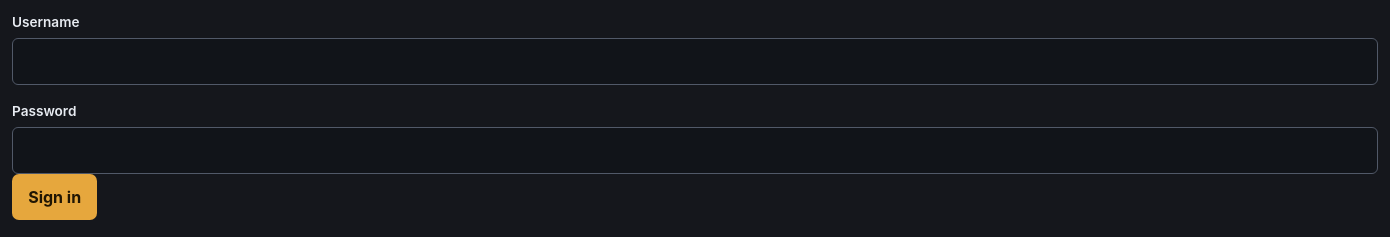
it: login form in Chromium › submits with Enter, trims the username, and preserves password whitespace
Note: screen exposes labelled controls belonging only to this form.
Type "  alice  " into the field labelled "Username" at {"x": 695, "y": 61}, box [12, 38, 1378, 85]
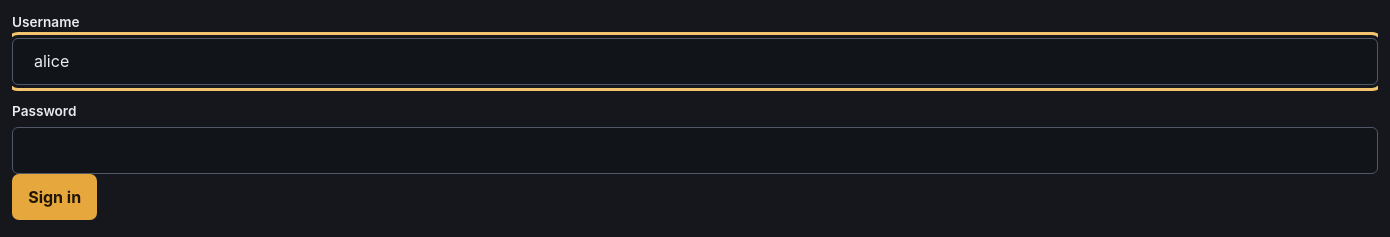
Type " exact password " into the password field labelled "Password" at {"x": 695, "y": 150}, box [12, 127, 1378, 174]
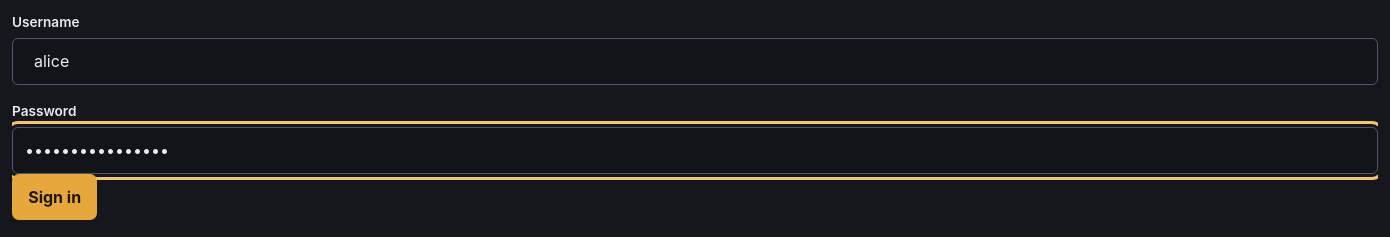
Press Enter
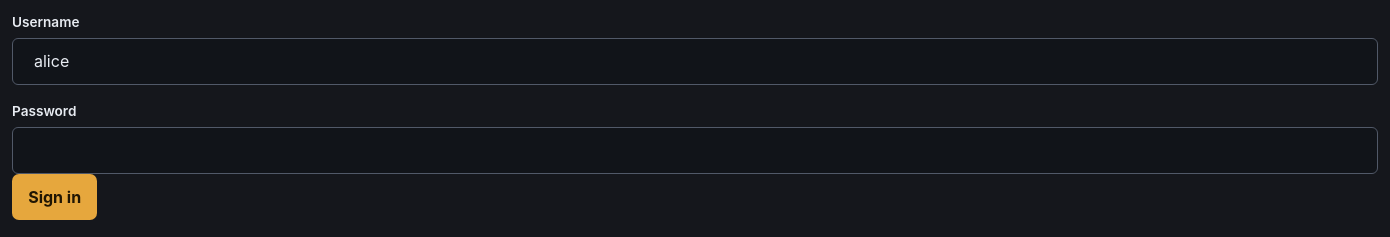
Expected: the password field labelled "Password" is empty, [12, 127, 1378, 174]
